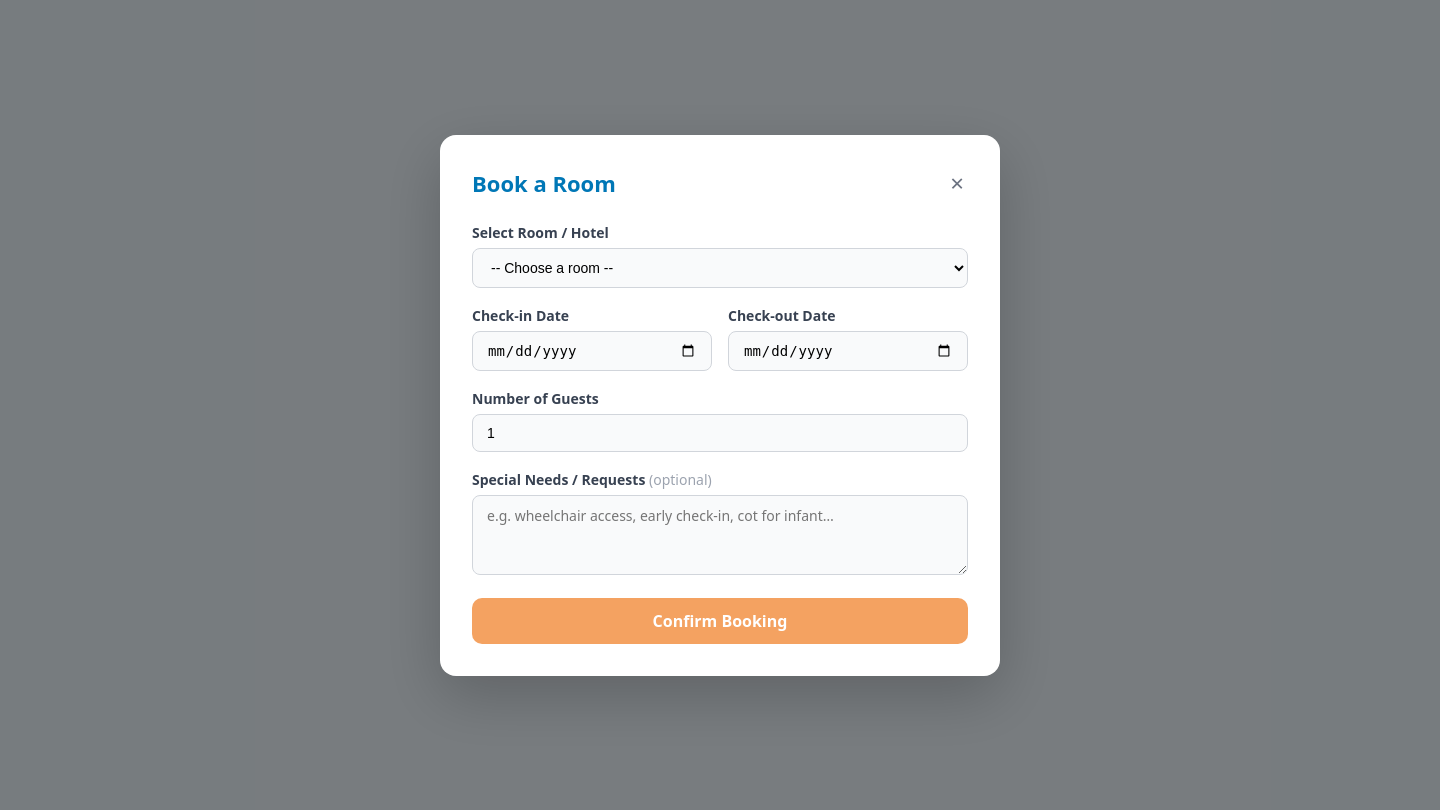
Test case: BookingModal › validation › shows an error when check-in date is missing
Select "🏛️ Aegean Pearl Resort – Standard (Santorini, Greece) · $180/night" in the dropdown labelled "Select Room / Hotel" at (720, 268), box [472,248,968,288]
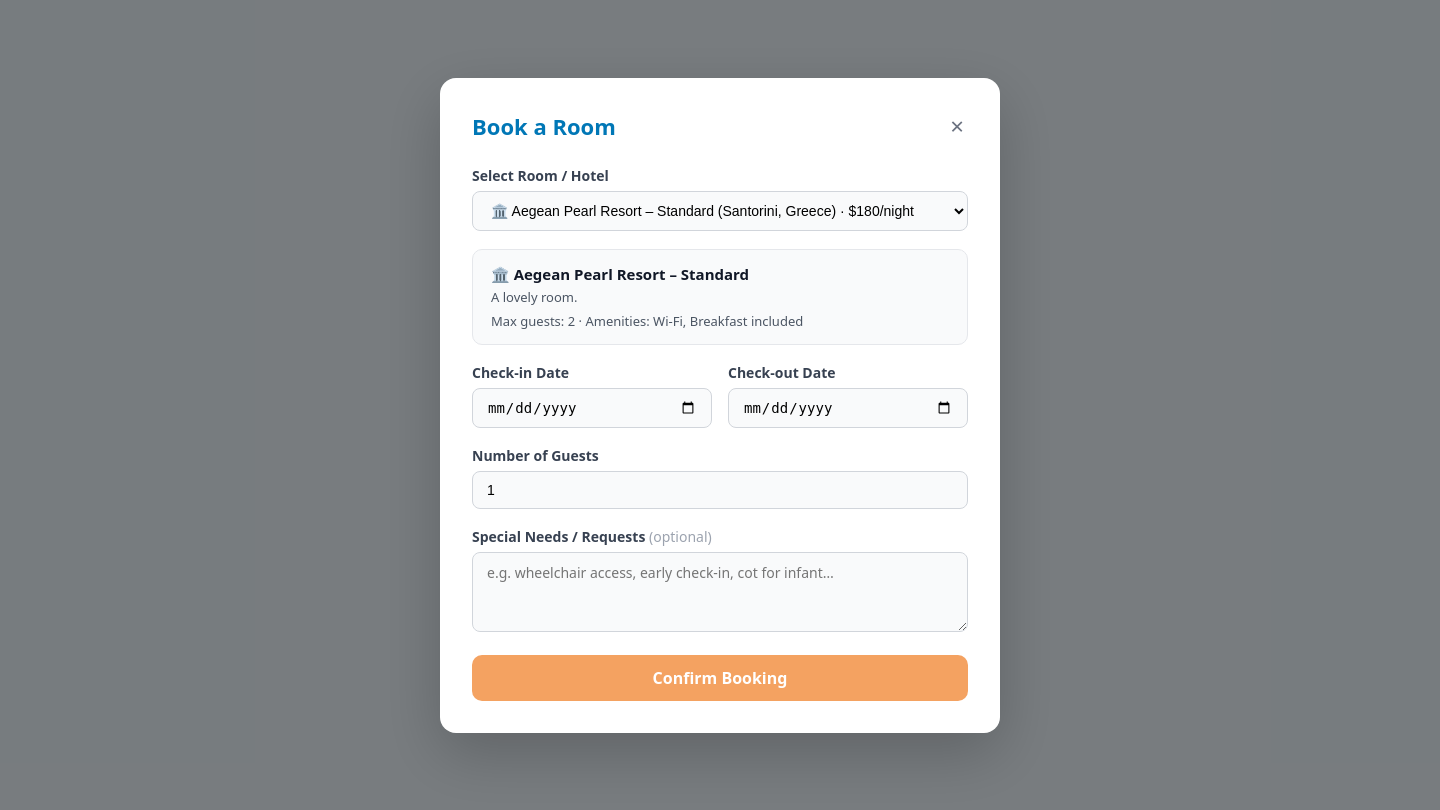
Click the button "Confirm Booking".
click(720, 678)  # box [472,654,968,700]
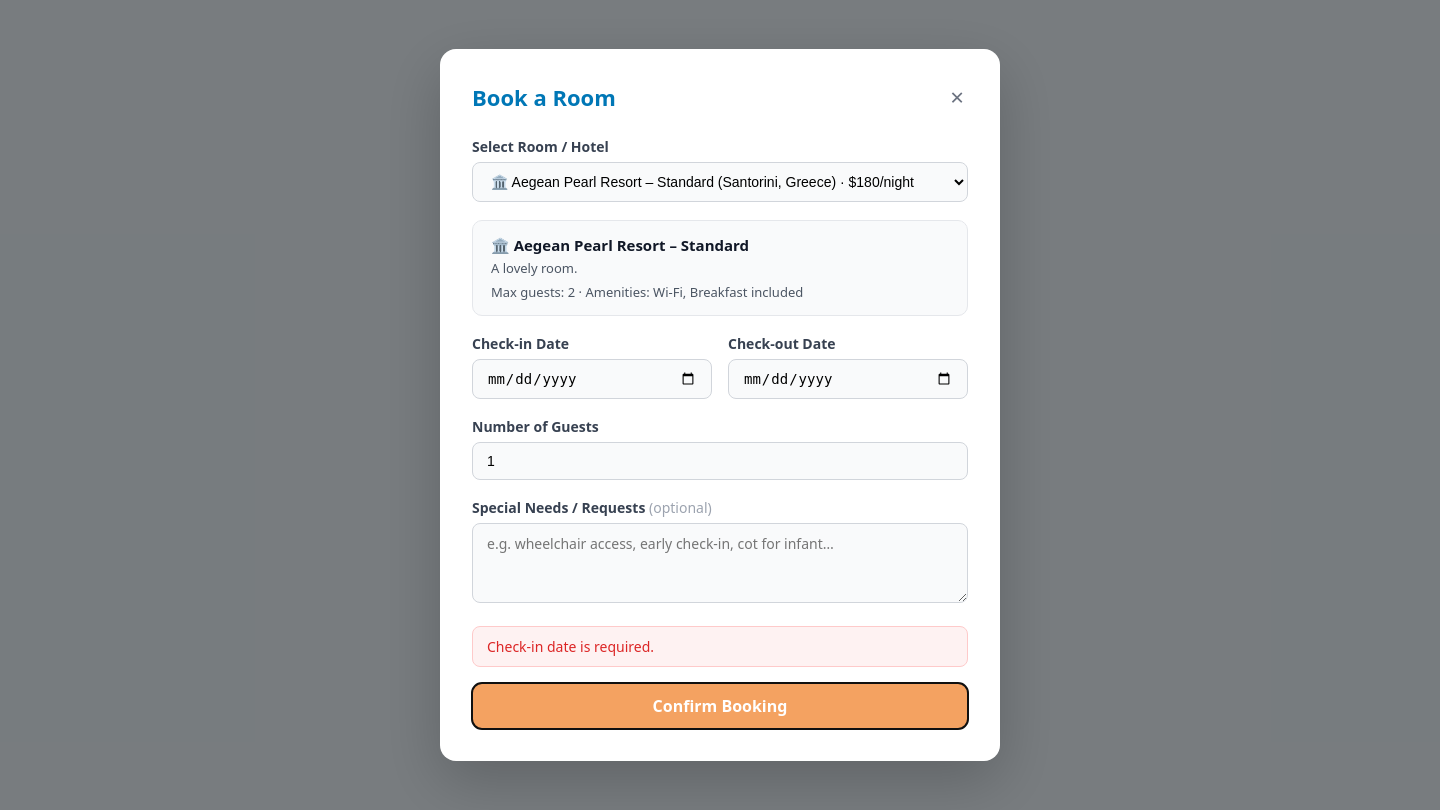
Now the text "Check-in date is required." is shown, box [472,626,968,667]
